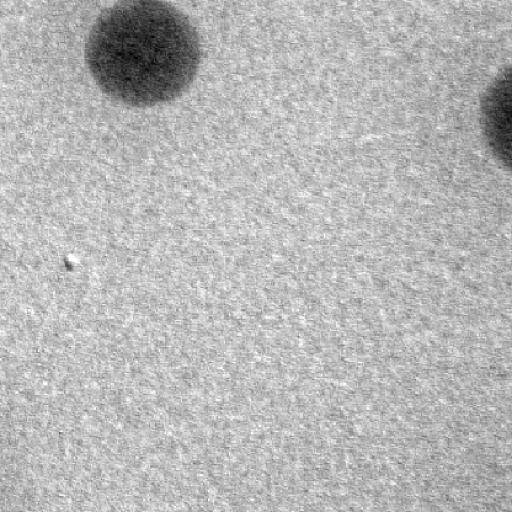Nanoparticles: (84, 0, 205, 111), (474, 61, 512, 172)
